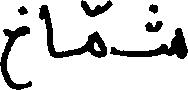X: (0, 1, 28, 89), (162, 18, 187, 63), (89, 0, 105, 62), (42, 0, 55, 62)
